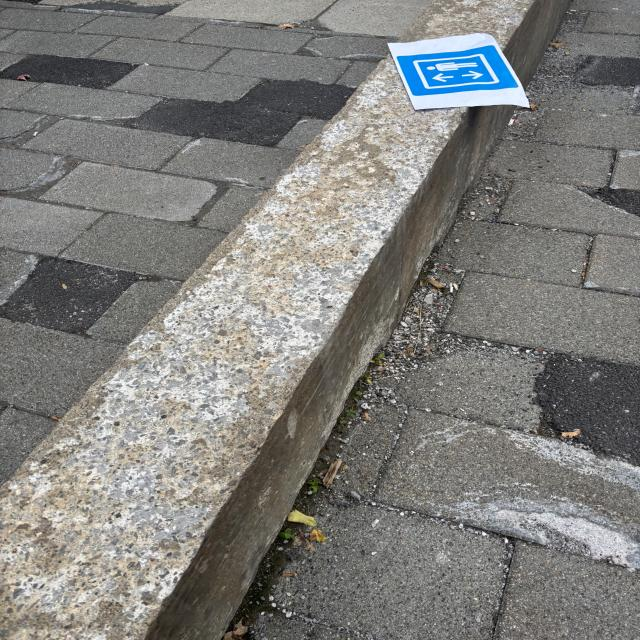elevator: (405, 45, 522, 98)
